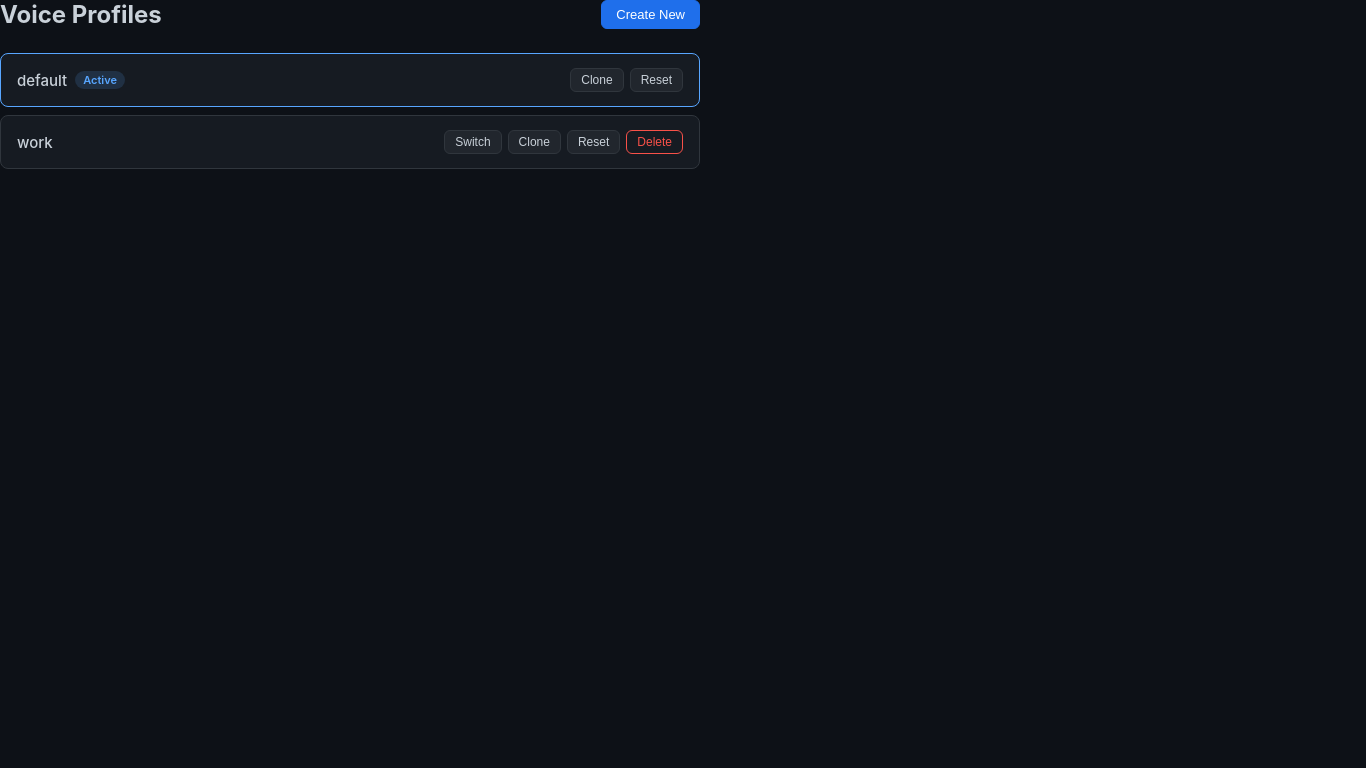
Test: Profiles mutation failures › cancels an older success clear before showing a newer failure
Click the button "Create New": (651, 14) 601,0 -> 700,29
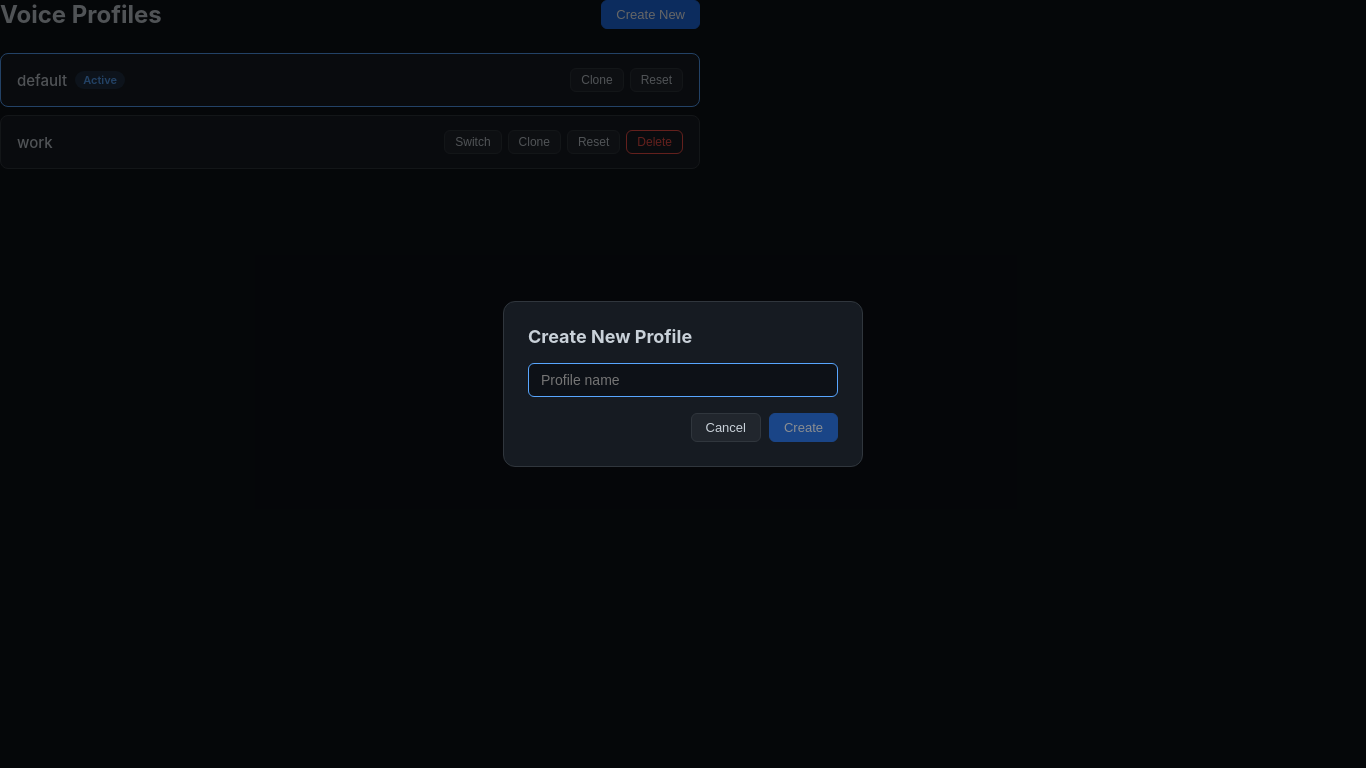
In the field with placeholder "Profile name": (683, 380) 528,363 -> 838,397, type "personal"
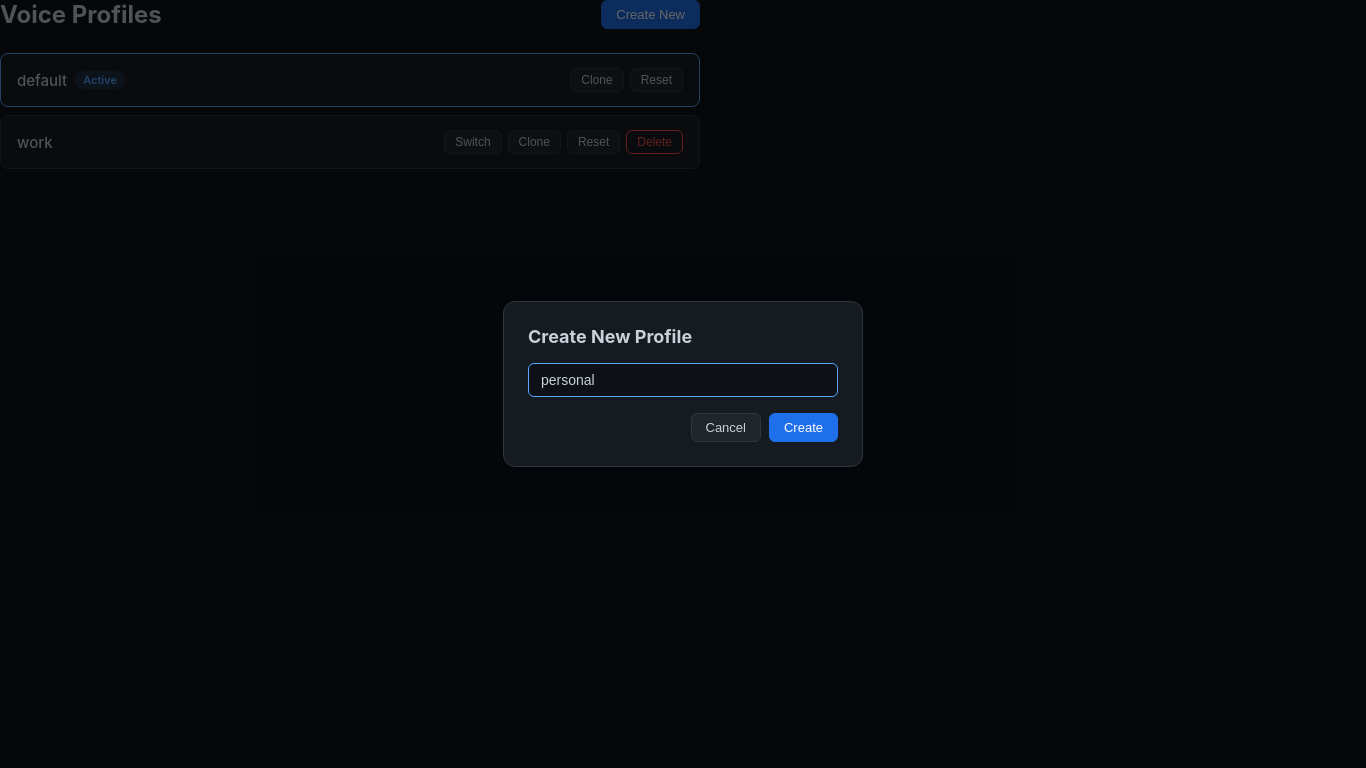
Click the button "Create": (804, 428) 769,413 -> 838,442
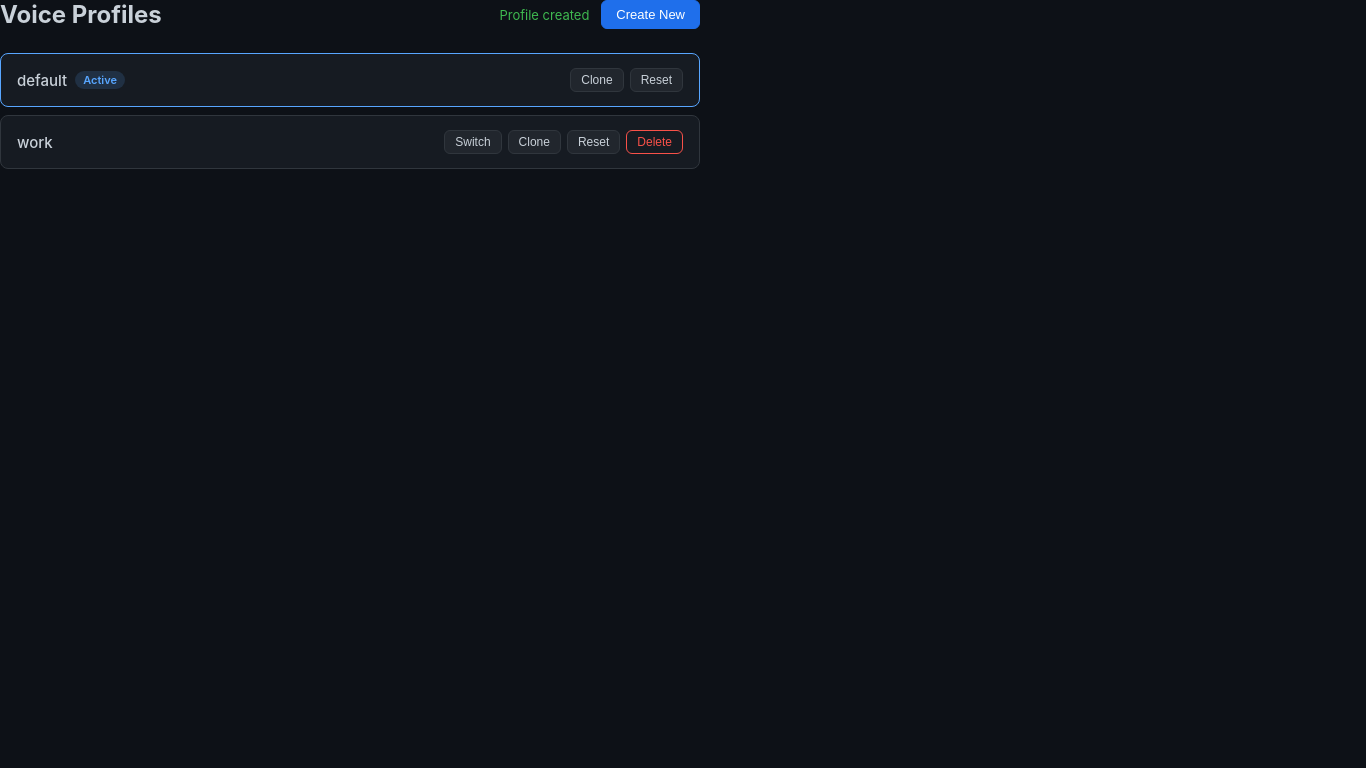
Check: the text "Profile created" is shown, box 500,6 -> 589,22
Click the button "Switch": (473, 142) 444,130 -> 502,154
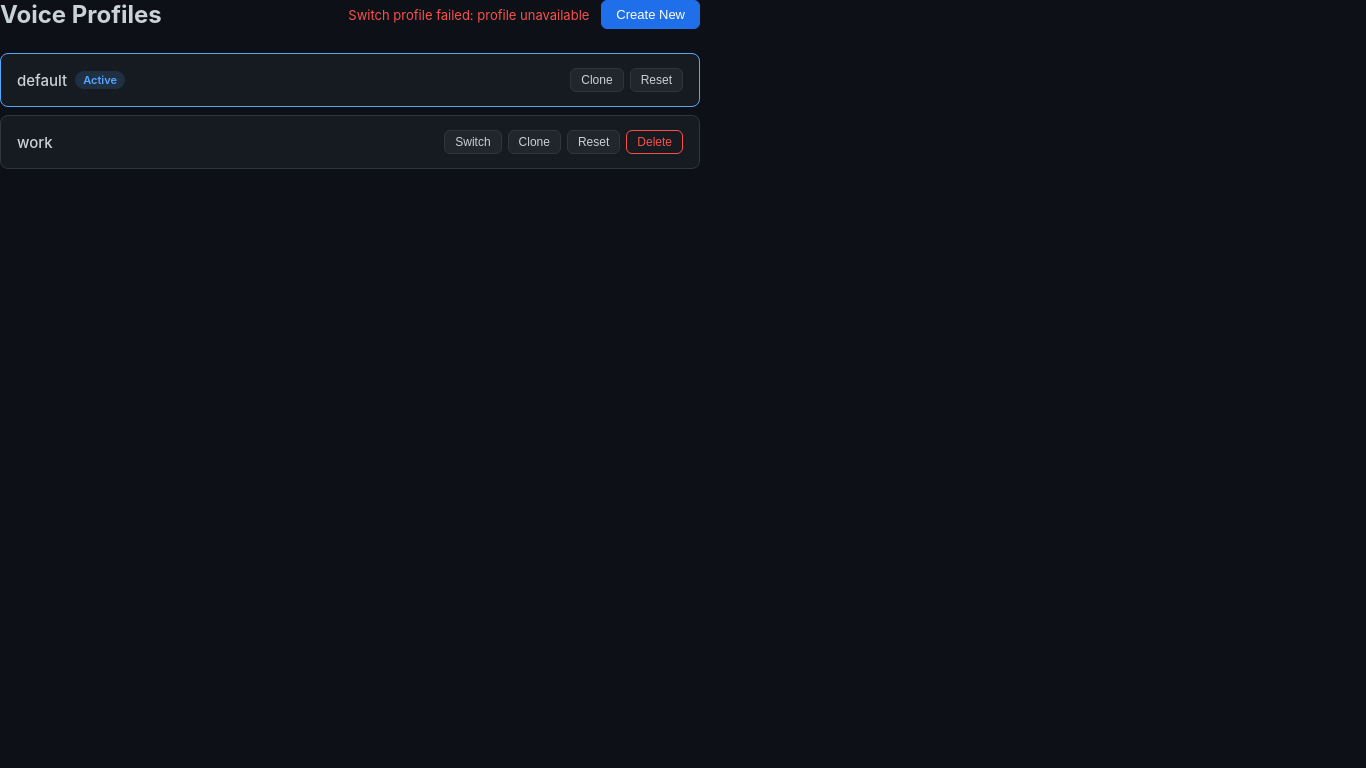
Check: the message reads "Switch profile failed: profile unavailable", box 348,6 -> 589,22
